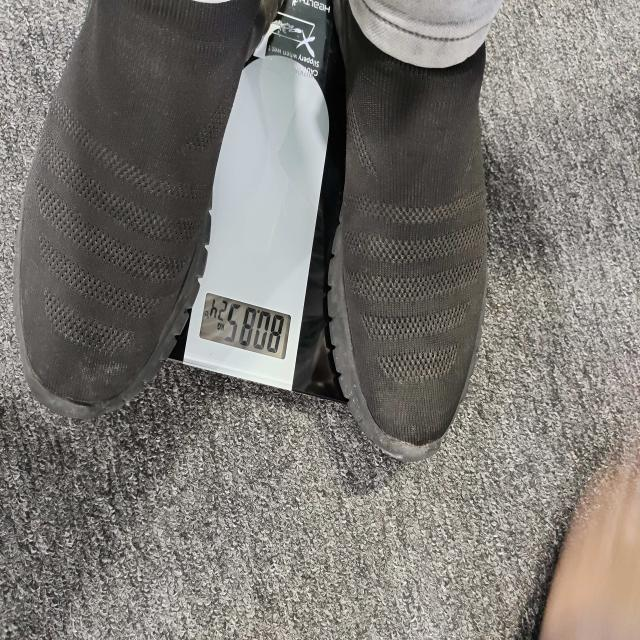ws: (180, 0, 333, 396)
